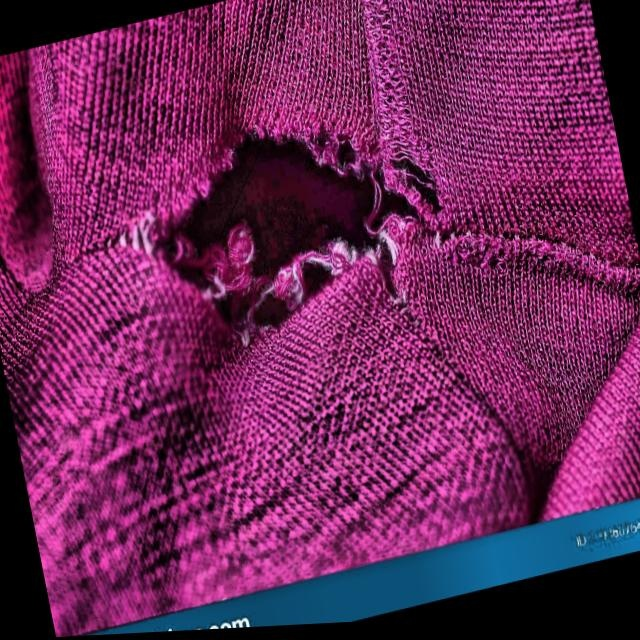Hole: (50, 28, 504, 425)
